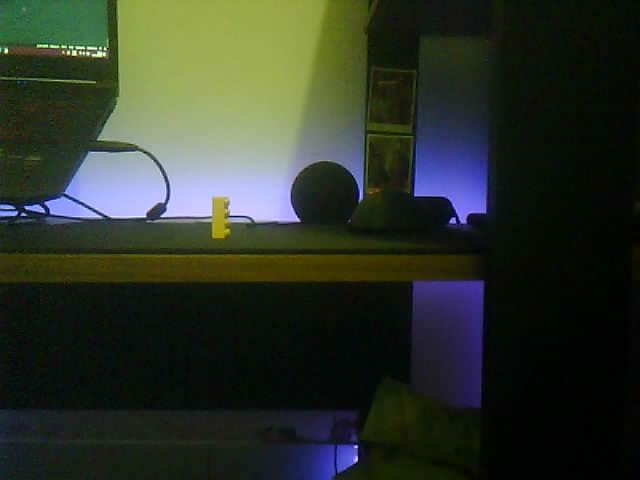lego: (212, 195, 230, 239)
